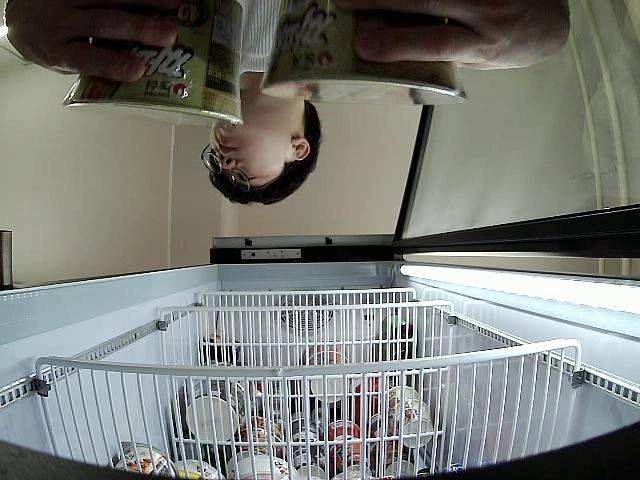03_chapagetti_L: (62, 0, 246, 127), (258, 0, 468, 101)
